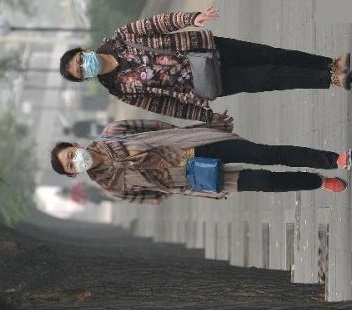person: (57, 6, 352, 126), (50, 121, 352, 206), (55, 183, 114, 205), (61, 118, 109, 140)
